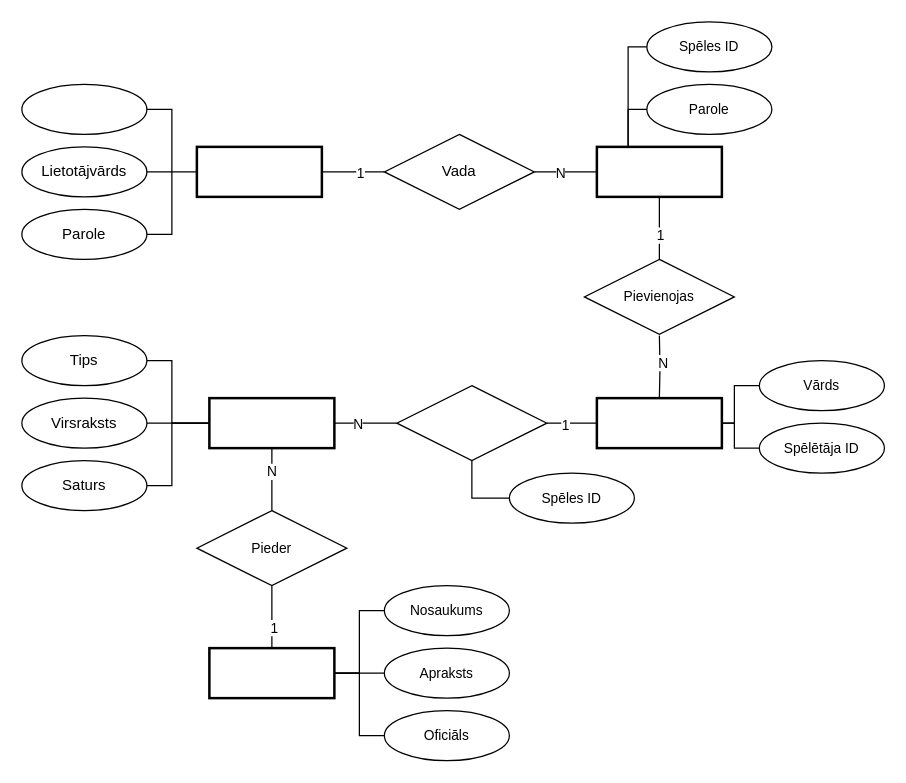
The diagram is 906 pixels wide and 783 high, and some of its shapes have lost their labels. The centre of each missing label's shape, as x and y in pixels:
E-pasts: [84,108]
Izspēlē: [471,422]
Kāršu komplekts: [271,672]
Lietotājs: [258,171]
Spēle: [658,171]
Spēles kārts: [271,422]
Spēlētājs: [658,422]
